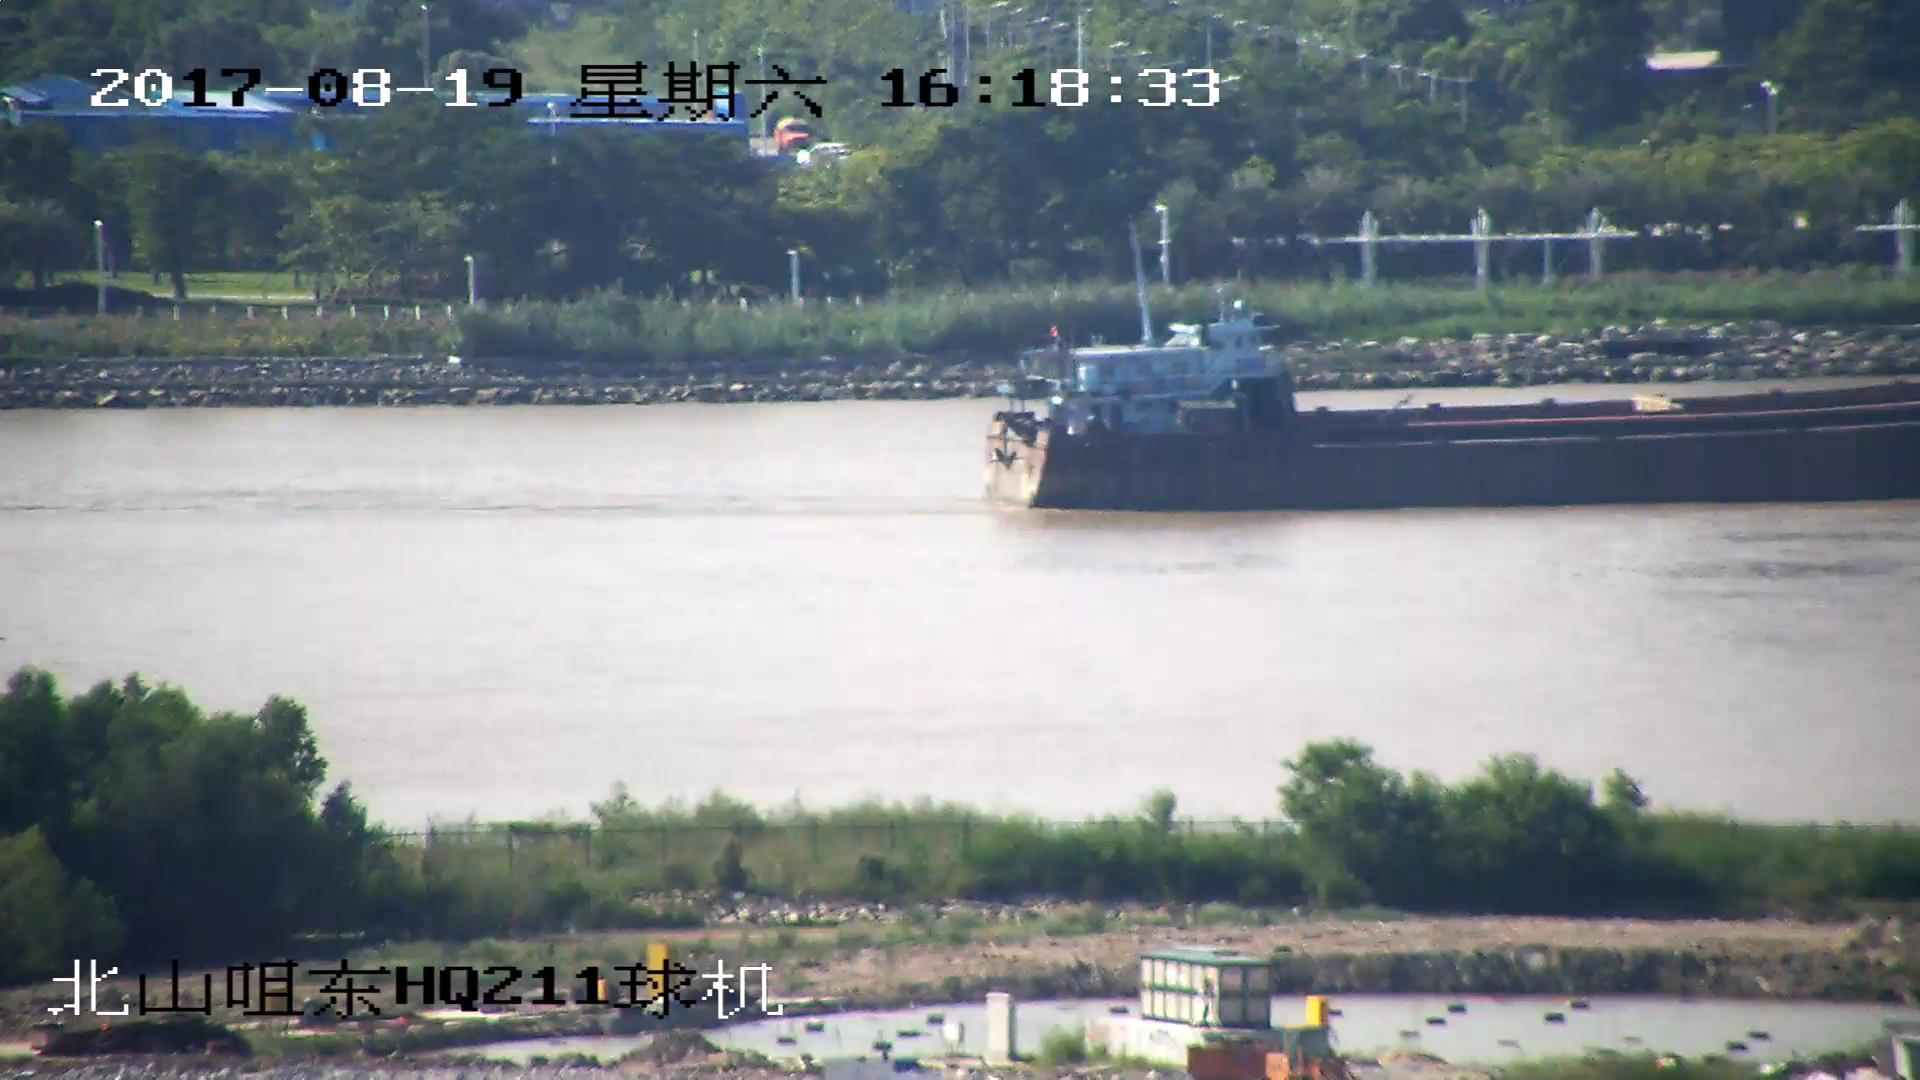Ship: (986, 320, 1920, 514)
